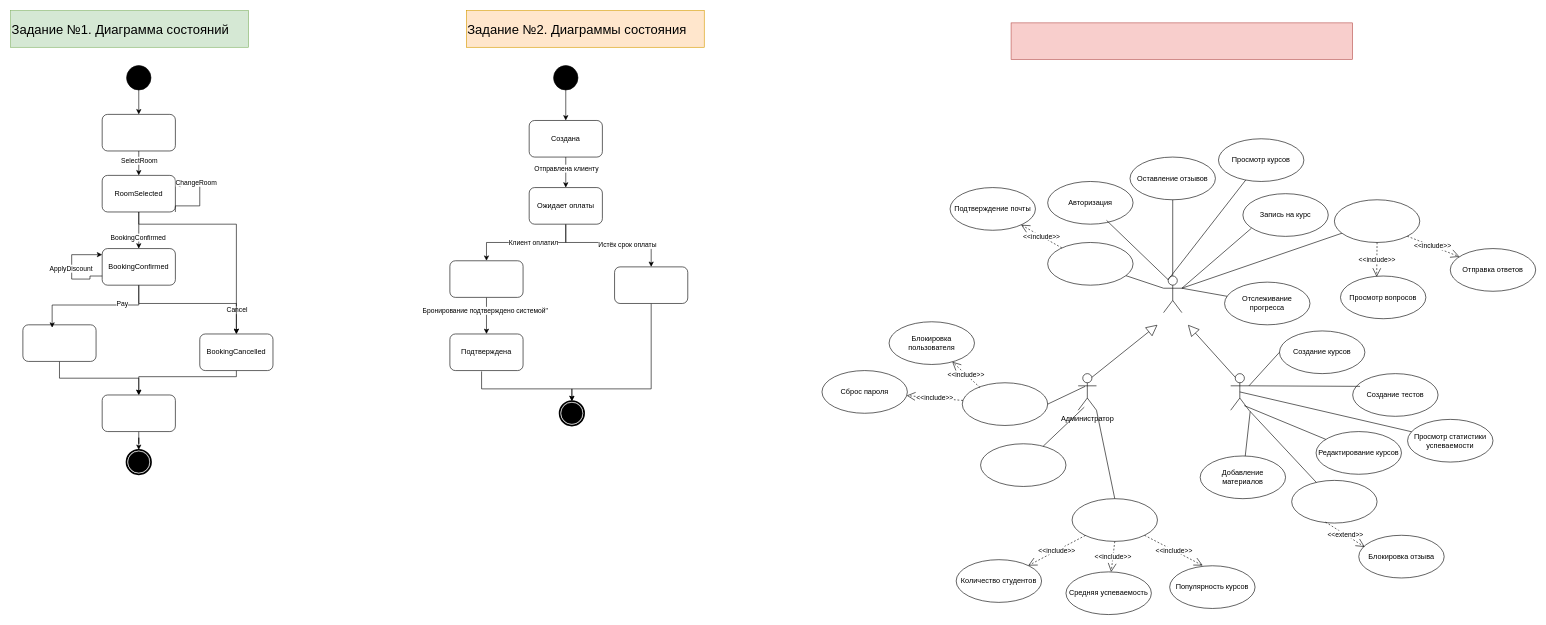
The diagram is 1546 pixels wide and 625 high, and some of its shapes have lost their labels. The centre of each missing label's shape, as x and y in pixels:
"History" belongs at [138,413].
"Idle" belongs at [138,132].
"Paid" belongs at [59,342].
"Задание №3. Диаграммы вариантов использования" belongs at [1181,40].
"Модерация отзывов" belongs at [1334,501].
"Оплачена" belongs at [486,278].
"Отменена" belongs at [651,284].
"Преподаватель" belongs at [1239,391].
"Просмотр аналитики" belongs at [1114,519].
"Прохождение тестов" belongs at [1377,220].
"Регистрация" belongs at [1090,263].
"Студент" belongs at [1172,294].
"Управление категориями" belongs at [1023,464].
"Управление пользователями" belongs at [1005,403].
